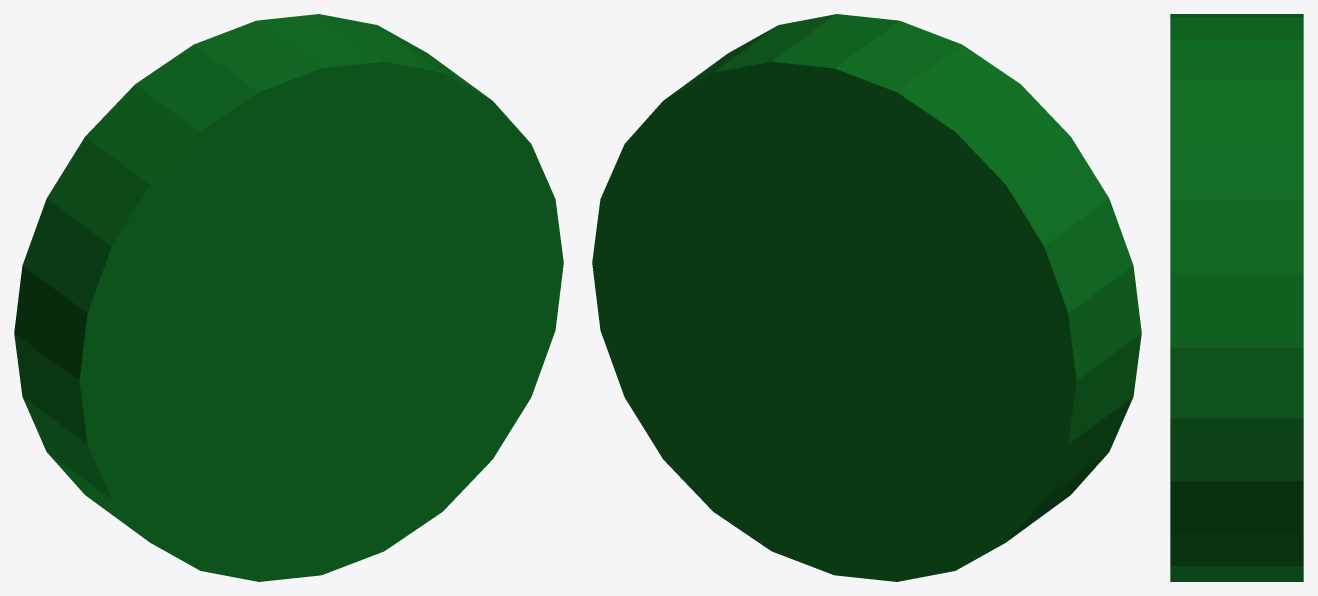
The model's file is Part_KeyRing.obj.
The picture shows the model from 3 angles, left to right: view 1: azimuth 30°, elevation 25°; view 2: azimuth 150°, elevation 25°; view 3: azimuth 270°, elevation 25°; orthographic projection.
Parts seen in each view (by area): view 1: KeyRing; view 2: KeyRing; view 3: KeyRing.
Part boxes in pixels (x1,y1,x2,y2): KeyRing: (14,14,563,581); KeyRing: (592,14,1141,581); KeyRing: (1170,14,1303,581).
Size of the model in its own units: 0.15 by 0.15 by 0.035.
